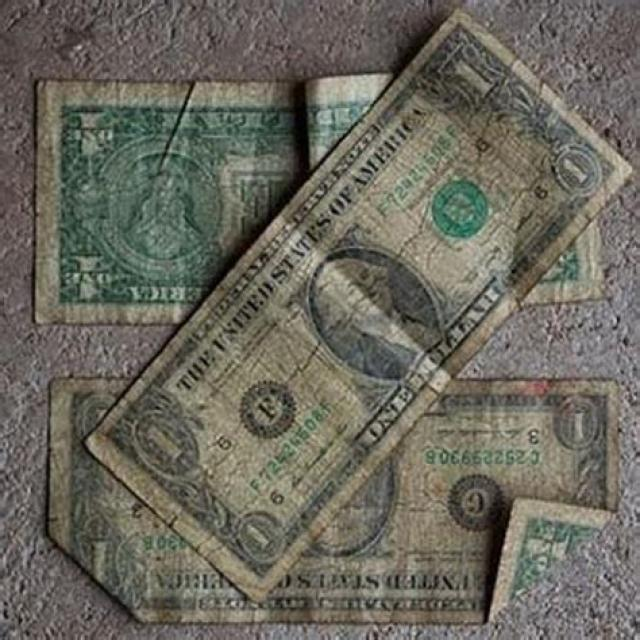banknote: (80, 14, 635, 601), (40, 377, 620, 629), (32, 74, 605, 328), (129, 408, 200, 478), (520, 519, 574, 579), (234, 506, 288, 564), (66, 243, 112, 309), (442, 50, 492, 106), (548, 141, 598, 193), (69, 106, 115, 162), (559, 392, 599, 451), (82, 536, 120, 598)
